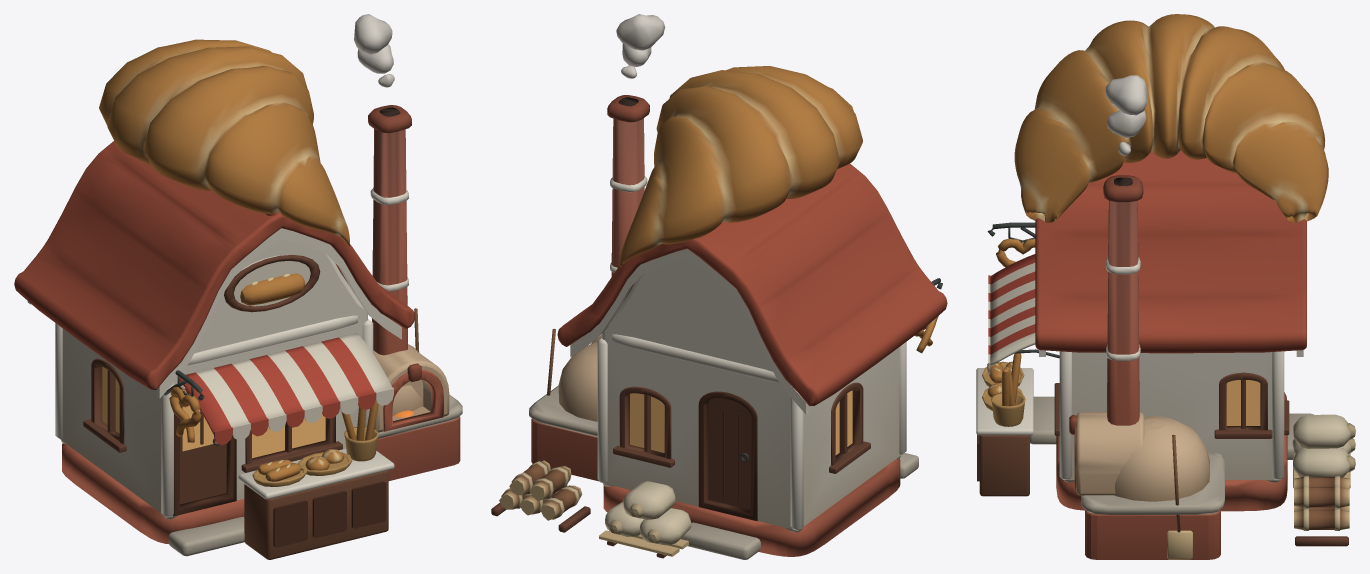
Rendered from BLD_Bakery_A_T3.fbx.
The picture shows the model from 3 angles, left to right: view 1: azimuth 30°, elevation 25°; view 2: azimuth 150°, elevation 25°; view 3: azimuth 270°, elevation 25°; orthographic projection. The views are drawn at different scales.
Parts seen in each view (by area): view 1: BLD_Bakery_A_T3_Body_LOD0, BLD_Bakery_A_T3_Puff3_LOD0, BLD_Bakery_A_T3_Sign_LOD0, BLD_Bakery_A_T3_Puff2_LOD0; view 2: BLD_Bakery_A_T3_Body_LOD0, BLD_Bakery_A_T3_Puff3_LOD0; view 3: BLD_Bakery_A_T3_Body_LOD0, BLD_Bakery_A_T3_Puff3_LOD0, BLD_Bakery_A_T3_Puff2_LOD0, BLD_Bakery_A_T3_Sign_LOD0.
Part boxes in pixels (x1,y1,x2,y2): BLD_Bakery_A_T3_Body_LOD0: (14,39,462,559); BLD_Bakery_A_T3_Puff3_LOD0: (354,14,392,54); BLD_Bakery_A_T3_Sign_LOD0: (169,376,201,442); BLD_Bakery_A_T3_Puff2_LOD0: (357,44,393,73); BLD_Bakery_A_T3_Body_LOD0: (491,66,947,559); BLD_Bakery_A_T3_Puff3_LOD0: (616,14,665,50); BLD_Bakery_A_T3_Body_LOD0: (976,14,1355,559); BLD_Bakery_A_T3_Puff3_LOD0: (1105,75,1147,115); BLD_Bakery_A_T3_Puff2_LOD0: (1107,110,1146,138); BLD_Bakery_A_T3_Sign_LOD0: (996,227,1035,267).
Size of what is drawn, in the model's own units: 4.6 by 5.67 by 4.36.
